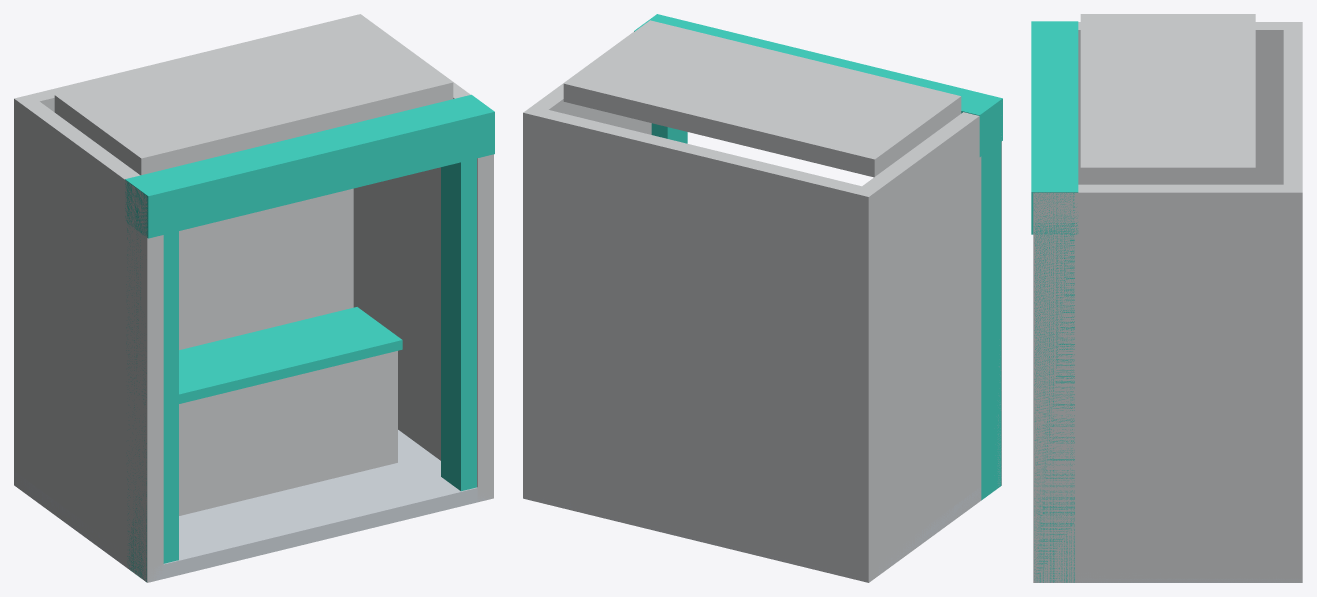
3 renders of one model, left to right at view 1: azimuth 30°, elevation 25°; view 2: azimuth 150°, elevation 25°; view 3: azimuth 270°, elevation 25°, orthographic.
Visible parts, largest first — view 1: Exhibition Booth Concept; view 2: Exhibition Booth Concept; view 3: Exhibition Booth Concept.
Part boxes in pixels (bbox=[...]): Exhibition Booth Concept: bbox=[14, 14, 494, 582]; Exhibition Booth Concept: bbox=[523, 14, 1002, 582]; Exhibition Booth Concept: bbox=[1031, 14, 1302, 582].
Bounding box in the file's own units: 3 × 3.34 × 2.01.
